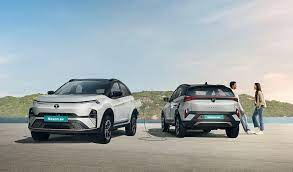Tata Nexon: (25, 78, 139, 146), (160, 81, 240, 138)
